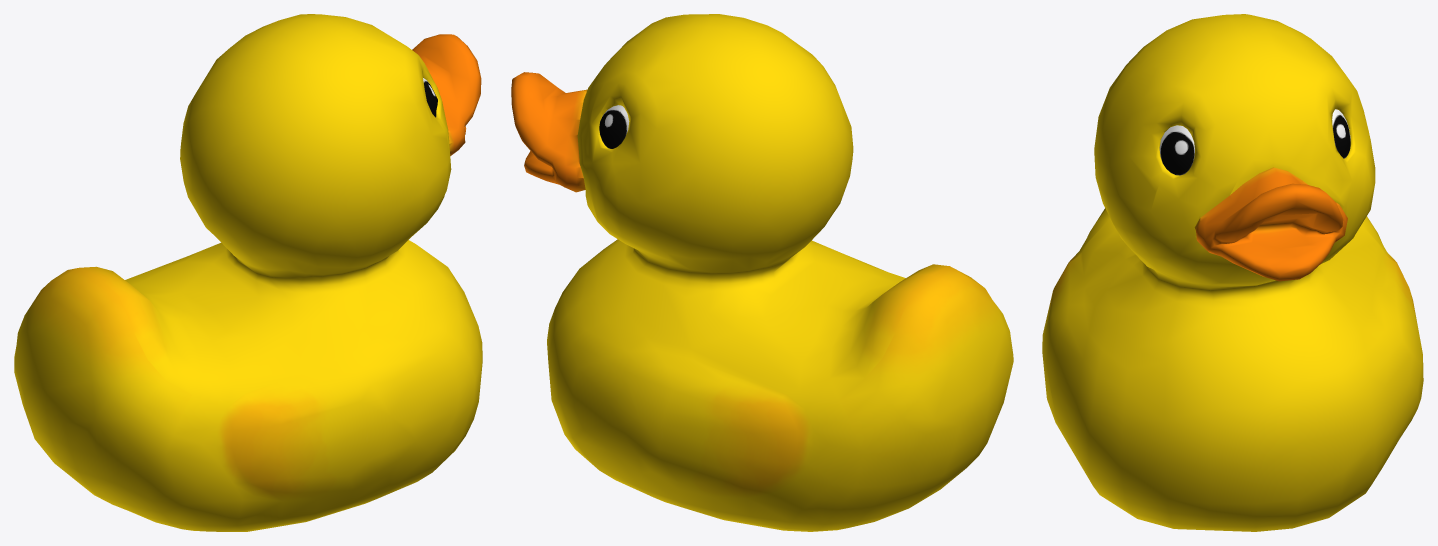
File: Duck.lod1.glb
The picture shows the model from 3 angles, left to right: view 1: azimuth 30°, elevation 25°; view 2: azimuth 150°, elevation 25°; view 3: azimuth 270°, elevation 25°; orthographic projection. The views are drawn at different scales.
Parts seen in each view (by area): view 1: LOD3spShape; view 2: LOD3spShape; view 3: LOD3spShape.
Boxes of the visible parts, <box> form: LOD3spShape: <box>14,14,482,531</box>; LOD3spShape: <box>511,14,1013,531</box>; LOD3spShape: <box>1042,14,1423,531</box>.
Bounding box in the file's own units: 1.65 × 1.54 × 1.15.
1 material, 1 textured.
